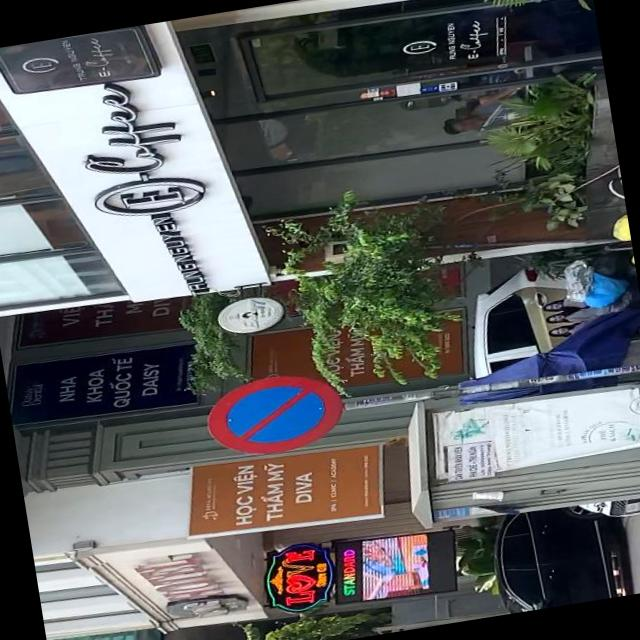P-131a: (200, 366, 348, 461)
